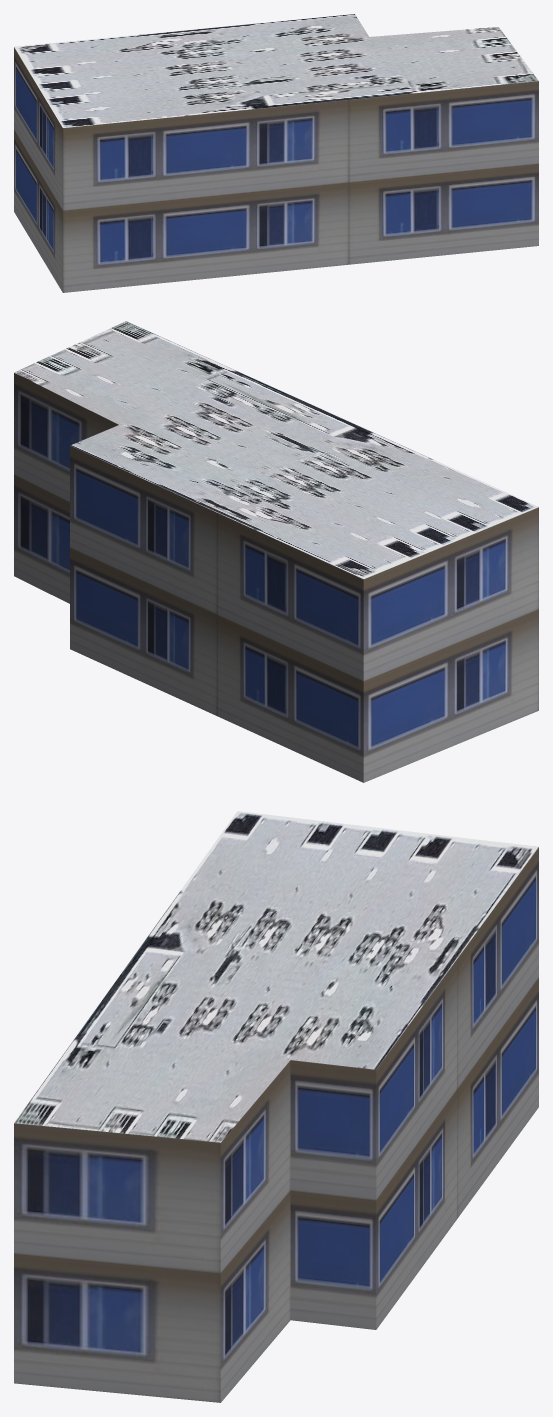
File: ResTex__4659.fbx
3 views of the same model, one above another, from view 1: azimuth 30°, elevation 25°; view 2: azimuth 150°, elevation 25°; view 3: azimuth 270°, elevation 25° (orthographic). The views are drawn at different scales.
Parts seen in each view (by area): view 1: CityEngineMaterial_23_m, CityEngineMaterial_4_m; view 2: CityEngineMaterial_23_m, CityEngineMaterial_4_m; view 3: CityEngineMaterial_23_m, CityEngineMaterial_4_m.
Boxes of the visible parts, x1,y1,x2,y2 form: CityEngineMaterial_23_m: (14,47,538,292); CityEngineMaterial_4_m: (14,14,538,127); CityEngineMaterial_23_m: (14,373,538,782); CityEngineMaterial_4_m: (14,321,538,579); CityEngineMaterial_23_m: (14,847,538,1402); CityEngineMaterial_4_m: (14,811,538,1142).
Bounding box in the file's own units: 16.4 × 6 × 10.97.
2 materials, 2 textured.
